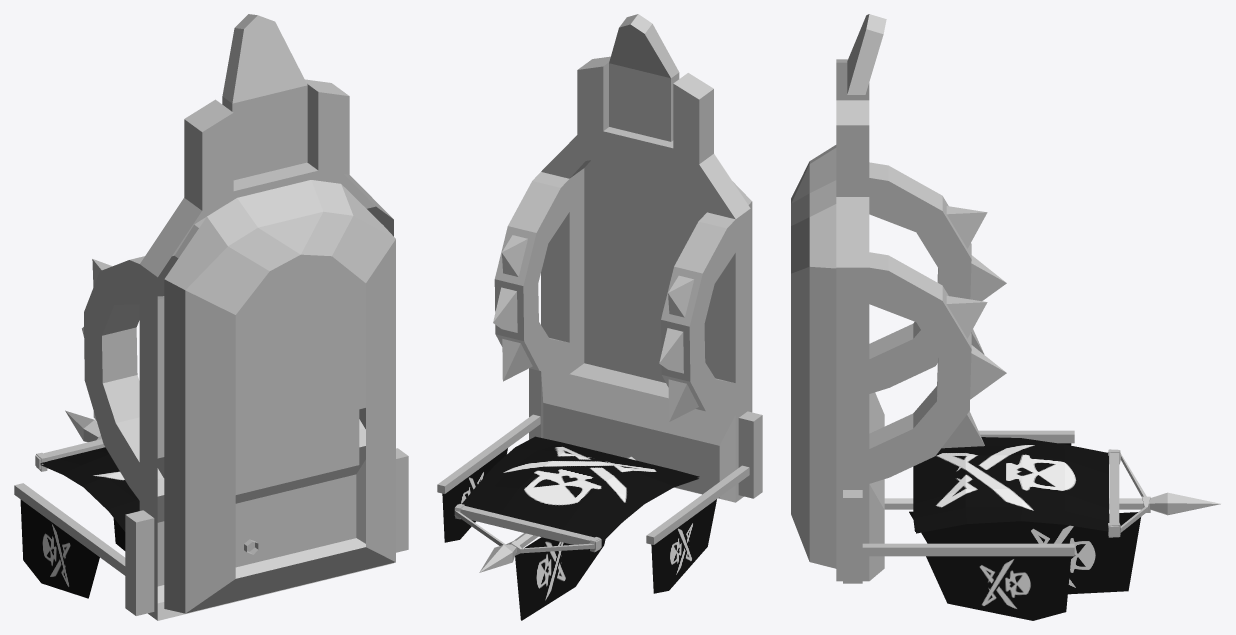
The model's file is pirate_cannon_my_ship_8.fbx.
The picture shows the model from 3 angles, left to right: view 1: azimuth 30°, elevation 25°; view 2: azimuth 150°, elevation 25°; view 3: azimuth 270°, elevation 25°; orthographic projection. The views are drawn at different scales.
Parts seen in each view (by area): view 1: Cube.279; view 2: Cube.279; view 3: Cube.279.
Part boxes in pixels (x1,y1,x2,y2): Cube.279: (14,14,408,620); Cube.279: (437,14,762,620); Cube.279: (791,14,1220,620).
Bounding box in the file's own units: 286 × 639 × 428.
